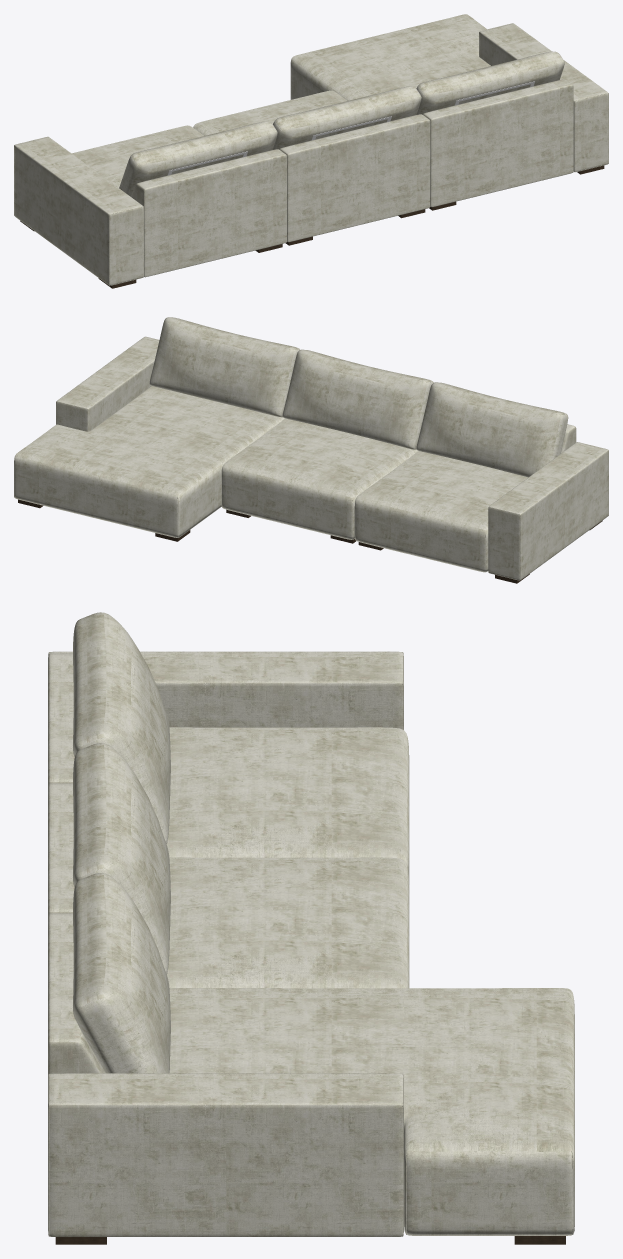
The picture shows the model from 3 angles, top to bottom: view 1: azimuth 30°, elevation 25°; view 2: azimuth 150°, elevation 25°; view 3: azimuth 270°, elevation 25°; orthographic projection. The views are drawn at different scales.
Visible parts, largest first — view 1: mesh34_mesh34-geometry, mesh34_mesh34-geometry_4, mesh34_mesh34-geometry_2, mesh33_mesh33-geometry, mesh55_mesh55-geometry, mesh33_mesh33-geometry_2, mesh85_mesh85-geometry, mesh85_mesh85-geometry_4, mesh85_mesh85-geometry_2, mesh41_mesh41-geometry, mesh41_mesh41-geometry_2; view 2: mesh55_mesh55-geometry, mesh41_mesh41-geometry_2, mesh41_mesh41-geometry, mesh33_mesh33-geometry, mesh85_mesh85-geometry_2, mesh85_mesh85-geometry_4, mesh85_mesh85-geometry, mesh33_mesh33-geometry_2; view 3: mesh55_mesh55-geometry, mesh33_mesh33-geometry_2, mesh41_mesh41-geometry_2, mesh41_mesh41-geometry, mesh33_mesh33-geometry, mesh85_mesh85-geometry_2, mesh85_mesh85-geometry, mesh85_mesh85-geometry_4, mesh34_mesh34-geometry_4, mesh34_mesh34-geometry, mesh34_mesh34-geometry_2.
Part boxes in pixels (x1,y1,x2,y2): mesh34_mesh34-geometry: [131, 149, 286, 277]; mesh34_mesh34-geometry_4: [422, 79, 573, 207]; mesh34_mesh34-geometry_2: [279, 114, 430, 242]; mesh33_mesh33-geometry: [14, 137, 143, 285]; mesh55_mesh55-geometry: [290, 14, 490, 100]; mesh33_mesh33-geometry_2: [479, 23, 608, 171]; mesh85_mesh85-geometry: [119, 121, 277, 196]; mesh85_mesh85-geometry_4: [272, 86, 421, 149]; mesh85_mesh85-geometry_2: [416, 51, 564, 114]; mesh41_mesh41-geometry: [72, 125, 203, 187]; mesh41_mesh41-geometry_2: [193, 90, 346, 135]; mesh55_mesh55-geometry: [14, 386, 285, 537]; mesh41_mesh41-geometry_2: [221, 418, 418, 539]; mesh41_mesh41-geometry: [355, 451, 527, 572]; mesh33_mesh33-geometry: [488, 442, 608, 580]; mesh85_mesh85-geometry_2: [149, 317, 299, 417]; mesh85_mesh85-geometry_4: [282, 349, 433, 449]; mesh85_mesh85-geometry: [416, 382, 568, 477]; mesh33_mesh33-geometry_2: [56, 336, 159, 431]; mesh55_mesh55-geometry: [169, 987, 574, 1235]; mesh33_mesh33-geometry_2: [48, 1073, 403, 1236]; mesh41_mesh41-geometry_2: [167, 857, 409, 988]; mesh41_mesh41-geometry: [166, 727, 409, 884]; mesh33_mesh33-geometry: [48, 651, 403, 729]; mesh85_mesh85-geometry_2: [73, 873, 170, 1073]; mesh85_mesh85-geometry: [73, 612, 170, 843]; mesh85_mesh85-geometry_4: [73, 743, 170, 974]; mesh34_mesh34-geometry_4: [48, 913, 105, 1078]; mesh34_mesh34-geometry: [48, 653, 74, 789]; mesh34_mesh34-geometry_2: [48, 783, 74, 919].
Bounding box in the file's own units: 0.8802 × 0.1966 × 0.4321.
3 materials, 2 textured.
